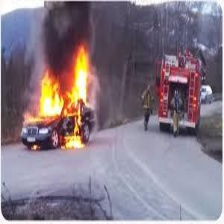fire: (25, 52, 94, 150)
smoke: (36, 3, 110, 51)
